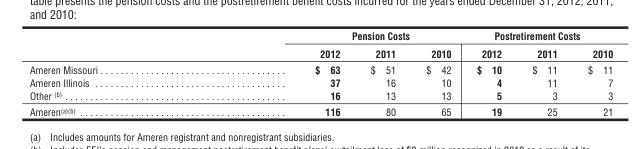table: (28, 29, 612, 117)
table column: (28, 29, 205, 117), (205, 29, 354, 117), (354, 29, 410, 117), (516, 29, 571, 117), (410, 29, 463, 117), (463, 29, 516, 117), (571, 29, 612, 117)
table column header: (28, 29, 612, 61)
table row: (28, 44, 612, 61), (28, 29, 612, 44), (28, 88, 612, 103), (28, 61, 612, 75), (28, 103, 612, 117), (28, 75, 612, 88)
table spanning cell: (205, 29, 463, 44), (463, 29, 612, 44)
